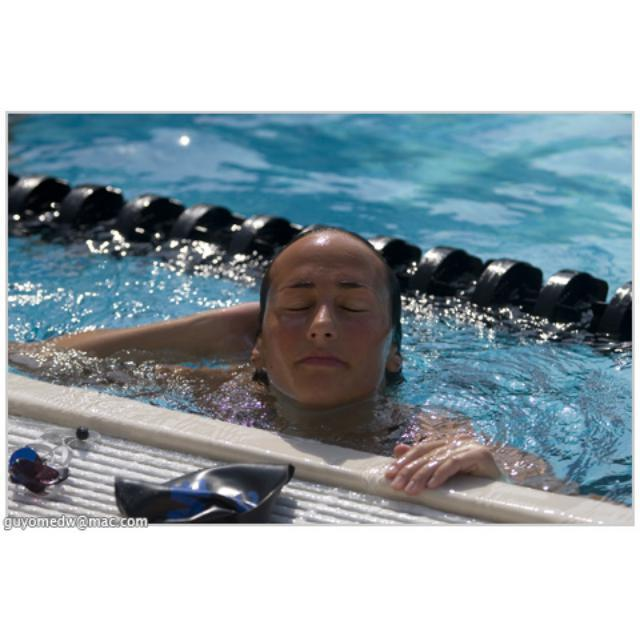human: (29, 221, 515, 485)
